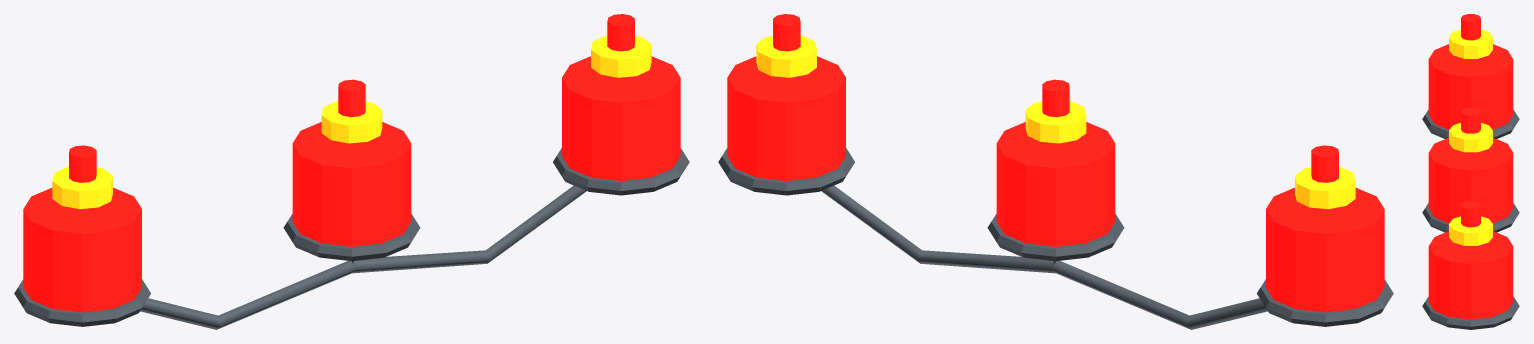
Rendered from red_buoy_chain.glb.
3 views of the same model, side by side, from view 1: azimuth 30°, elevation 25°; view 2: azimuth 150°, elevation 25°; view 3: azimuth 270°, elevation 25° (orthographic). The views are drawn at different scales.
Visible parts, largest first — view 1: Buoy_2_Body, Buoy_1_Body, Buoy_3_Body, Chain_Right, Chain_Left, Buoy_2_Ring, Buoy_3_Ring, Buoy_1_Ring, Buoy_2_Top, Buoy_3_Top, Buoy_1_Top, Buoy_1_Beacon (+2 smaller); view 2: Buoy_2_Body, Buoy_1_Body, Buoy_3_Body, Chain_Right, Chain_Left, Buoy_2_Ring, Buoy_3_Ring, Buoy_1_Ring, Buoy_2_Top, Buoy_3_Top, Buoy_1_Top, Buoy_1_Beacon (+2 smaller); view 3: Buoy_3_Body, Buoy_2_Body, Buoy_1_Body, Buoy_3_Ring, Buoy_2_Top, Buoy_1_Top, Buoy_3_Top, Buoy_2_Ring, Buoy_1_Ring, Buoy_1_Beacon, Buoy_2_Beacon, Buoy_3_Beacon.
Boxes of the visible parts, x1,y1,x2,y2 form: Buoy_2_Body: (292,122,411,246); Buoy_1_Body: (23,187,141,312); Buoy_3_Body: (562,56,680,180); Chain_Right: (352,185,586,273); Chain_Left: (140,261,355,329); Buoy_2_Ring: (283,214,420,261); Buoy_3_Ring: (553,148,689,195); Buoy_1_Ring: (14,279,150,326); Buoy_2_Top: (321,101,382,143); Buoy_3_Top: (591,35,651,77); Buoy_1_Top: (52,166,112,209); Buoy_1_Beacon: (69,145,96,182); Buoy_2_Body: (996,122,1115,246); Buoy_1_Body: (1266,187,1384,312); Buoy_3_Body: (727,56,845,180); Chain_Right: (821,185,1055,273); Chain_Left: (1052,261,1267,329); Buoy_2_Ring: (987,214,1124,261); Buoy_3_Ring: (718,148,854,195); Buoy_1_Ring: (1257,279,1393,326); Buoy_2_Top: (1025,101,1086,143); Buoy_3_Top: (756,35,816,77); Buoy_1_Top: (1295,166,1355,209); Buoy_1_Beacon: (1311,145,1338,182); Buoy_3_Body: (1428,231,1513,319); Buoy_2_Body: (1428,137,1513,223); Buoy_1_Body: (1428,44,1513,129); Buoy_3_Ring: (1422,296,1519,329); Buoy_2_Top: (1449,123,1492,152); Buoy_1_Top: (1449,29,1492,58); Buoy_3_Top: (1449,216,1492,245); Buoy_2_Ring: (1422,203,1519,232); Buoy_1_Ring: (1422,109,1519,138); Buoy_1_Beacon: (1461,14,1480,40); Buoy_2_Beacon: (1461,107,1480,133); Buoy_3_Beacon: (1461,201,1480,227).
Size of the model in its own units: 5.37 by 1.65 by 0.97.
